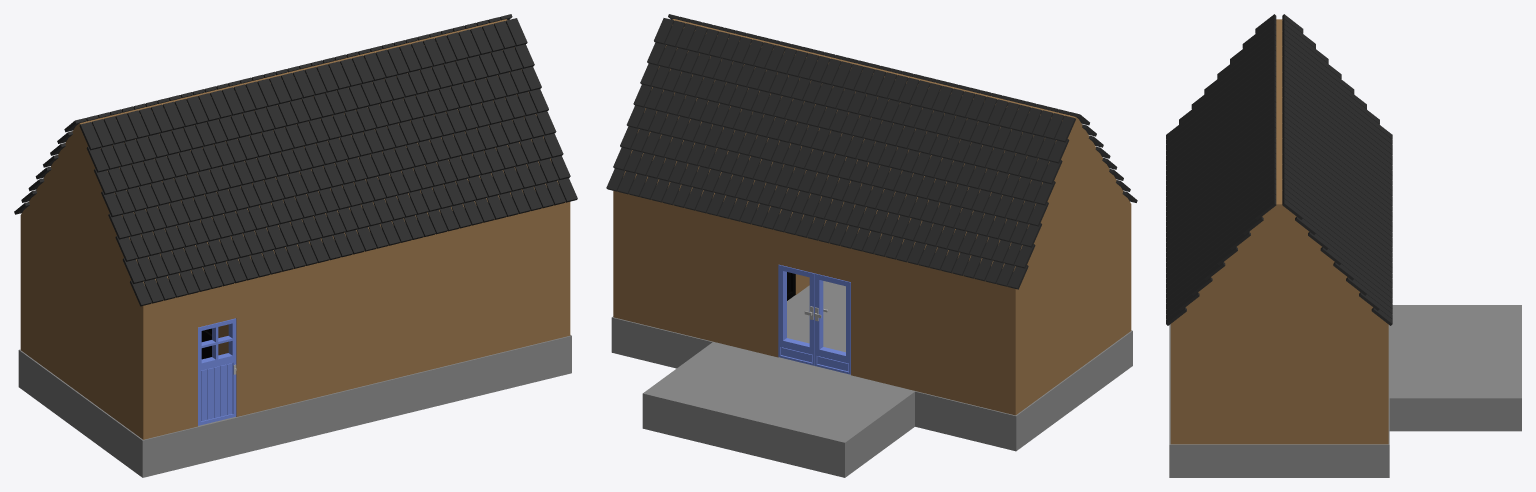
The model's file is HouseTry1.fbx.
3 views of the same model, side by side, from view 1: azimuth 30°, elevation 25°; view 2: azimuth 150°, elevation 25°; view 3: azimuth 270°, elevation 25° (orthographic). The views are drawn at different scales.
Visible parts, largest first — view 1: House, Roof, Door Front; view 2: House, Roof, Door Garden 2, Door Garden 1; view 3: House, Roof.
Boxes of the visible parts, left/top/right/bottom form: House: left=18, top=19, right=571, bottom=477; Roof: left=14, top=14, right=577, bottom=306; Door Front: left=198, top=318, right=236, bottom=425; House: left=611, top=19, right=1132, bottom=477; Roof: left=606, top=14, right=1137, bottom=289; Door Garden 2: left=778, top=264, right=814, bottom=365; Door Garden 1: left=814, top=273, right=850, bottom=374; House: left=1169, top=19, right=1521, bottom=477; Roof: left=1166, top=14, right=1392, bottom=325.
Bounding box in the file's own units: 1017 × 692 × 807.
